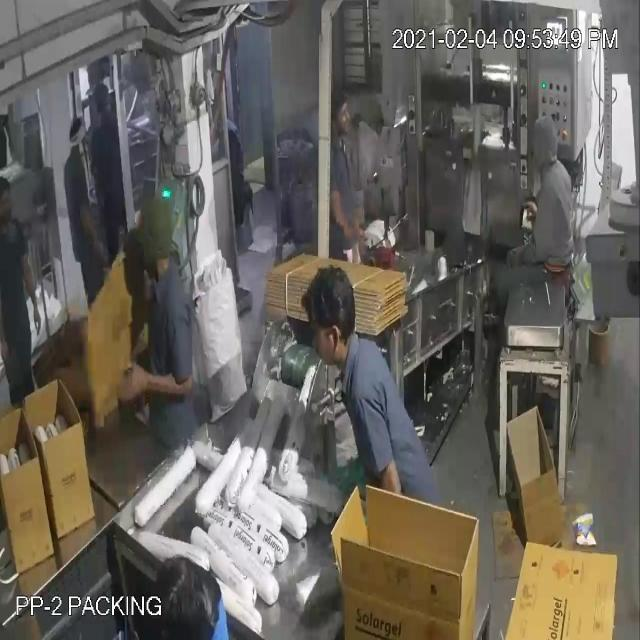No_Gloves: (30, 69, 341, 388)
